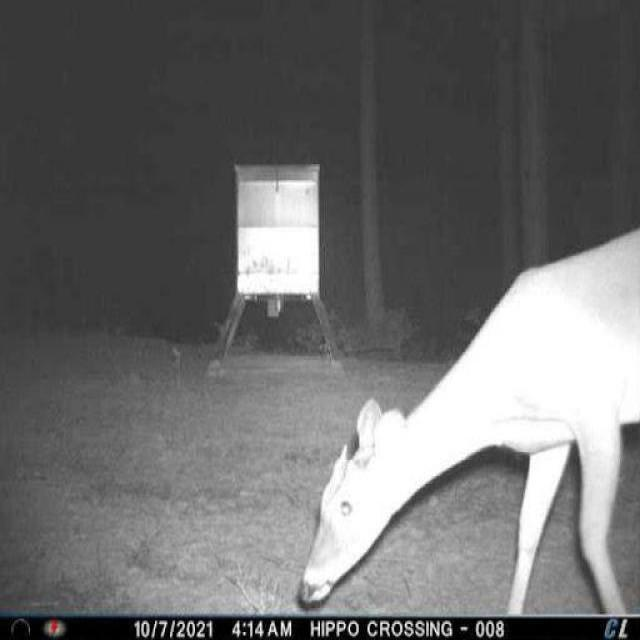deer: (294, 224, 640, 612)
